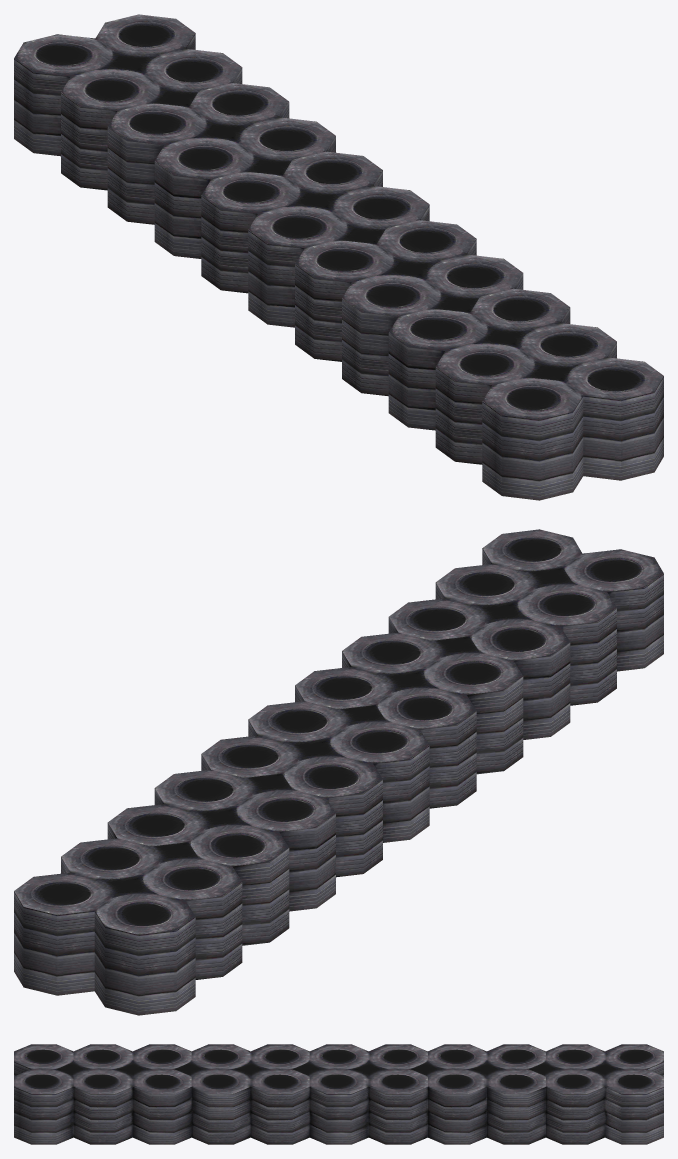
Rendered from tyres.fbx.
The picture shows the model from 3 angles, top to bottom: view 1: azimuth 30°, elevation 25°; view 2: azimuth 150°, elevation 25°; view 3: azimuth 270°, elevation 25°; orthographic projection. The views are drawn at different scales.
Visible parts, largest first — view 1: Tyres; view 2: Tyres; view 3: Tyres.
Boxes of the visible parts, x1,y1,x2,y2 form: Tyres: (14,14,663,500); Tyres: (14,529,663,1015); Tyres: (14,1044,663,1144).
Bounding box in the file's own units: 908 × 431 × 5000.
